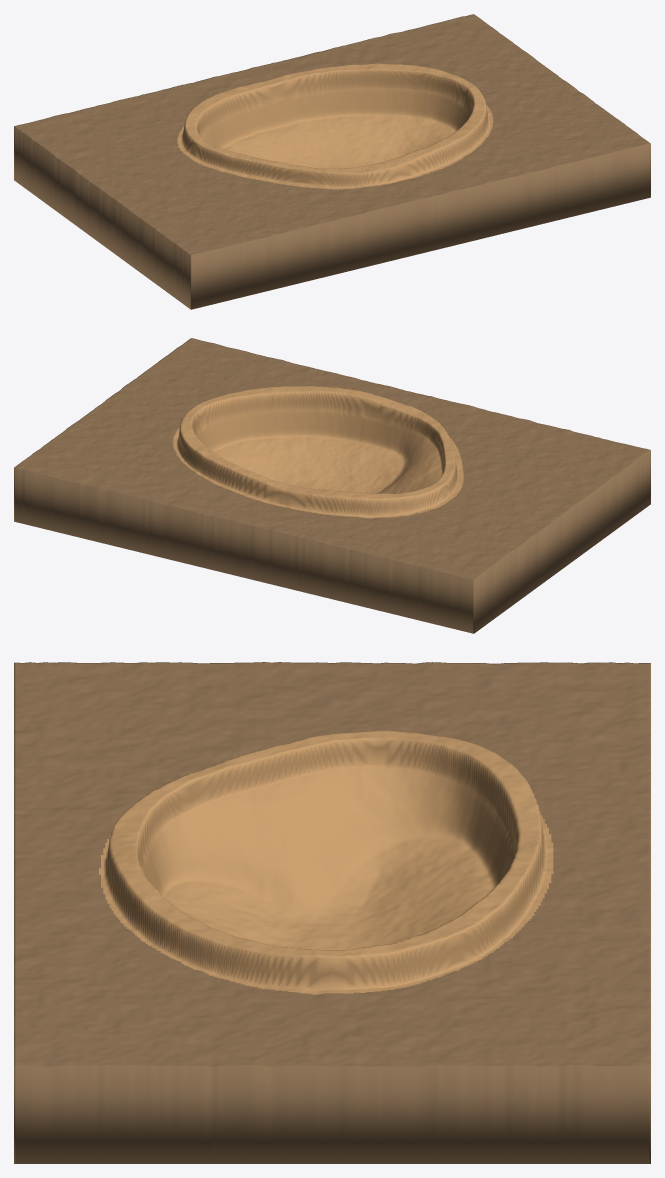
The model's file is hero-pond-and-ground.glb.
The picture shows the model from 3 angles, top to bottom: view 1: azimuth 30°, elevation 25°; view 2: azimuth 150°, elevation 25°; view 3: azimuth 270°, elevation 25°; orthographic projection. The views are drawn at different scales.
Visible parts, largest first — view 1: Continuous porcelain pond casting; view 2: Continuous porcelain pond casting; view 3: Continuous porcelain pond casting.
Boxes of the visible parts, <box> form: Continuous porcelain pond casting: <box>14,14,650,309</box>; Continuous porcelain pond casting: <box>14,338,650,633</box>; Continuous porcelain pond casting: <box>14,662,650,1163</box>.
Bounding box in the file's own units: 1.8 × 0.2675 × 1.2.
